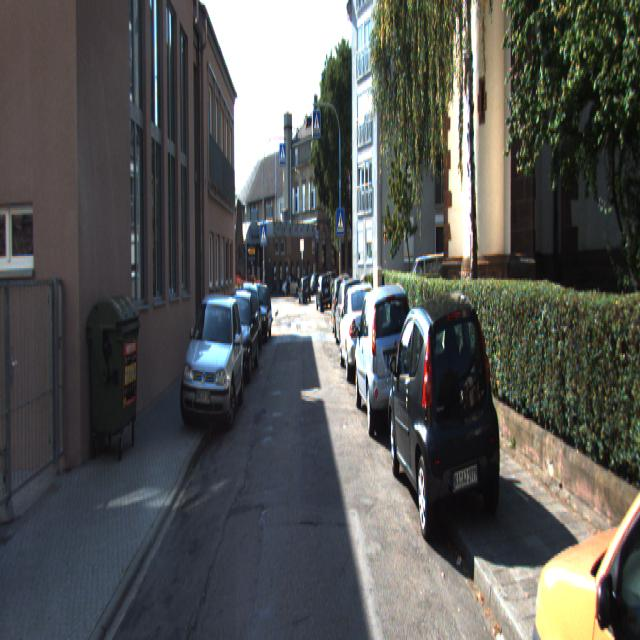Car: (528, 355, 640, 638), (387, 284, 502, 533), (352, 281, 419, 436), (180, 284, 244, 434), (337, 278, 382, 379), (216, 289, 260, 385), (407, 249, 450, 318), (233, 284, 262, 358), (247, 283, 272, 342)
